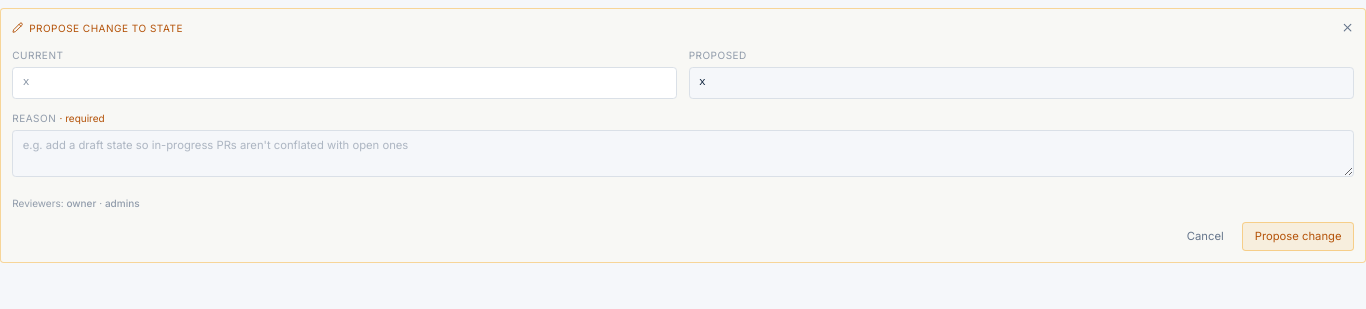
Test: ProposeChangeForm › requires a reason before submitting
Click the button "Propose change": (1298, 236) [1242, 222, 1354, 251]
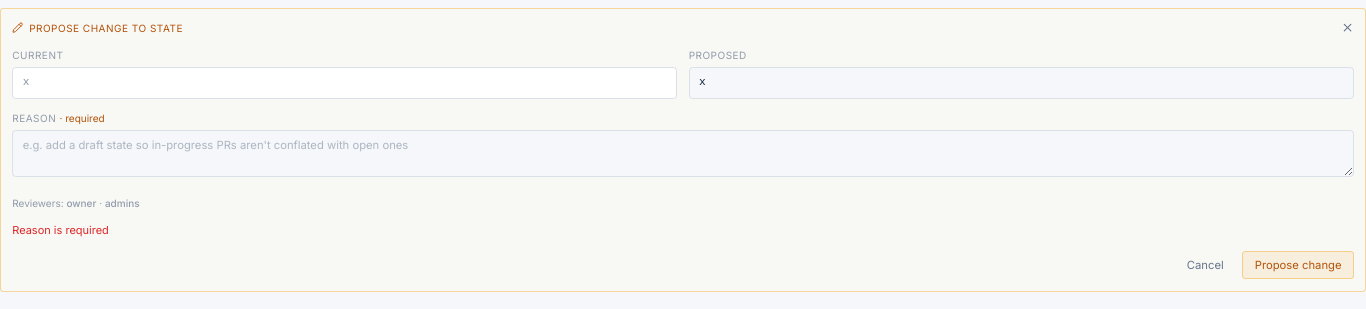
Now the text "Reason is required" is shown, box [12, 223, 109, 237]
